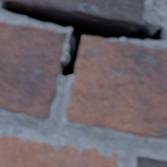brick: (66, 36, 166, 138), (0, 22, 66, 118), (0, 135, 117, 166), (7, 0, 145, 23), (136, 155, 166, 166)
crack: (0, 0, 165, 77)
